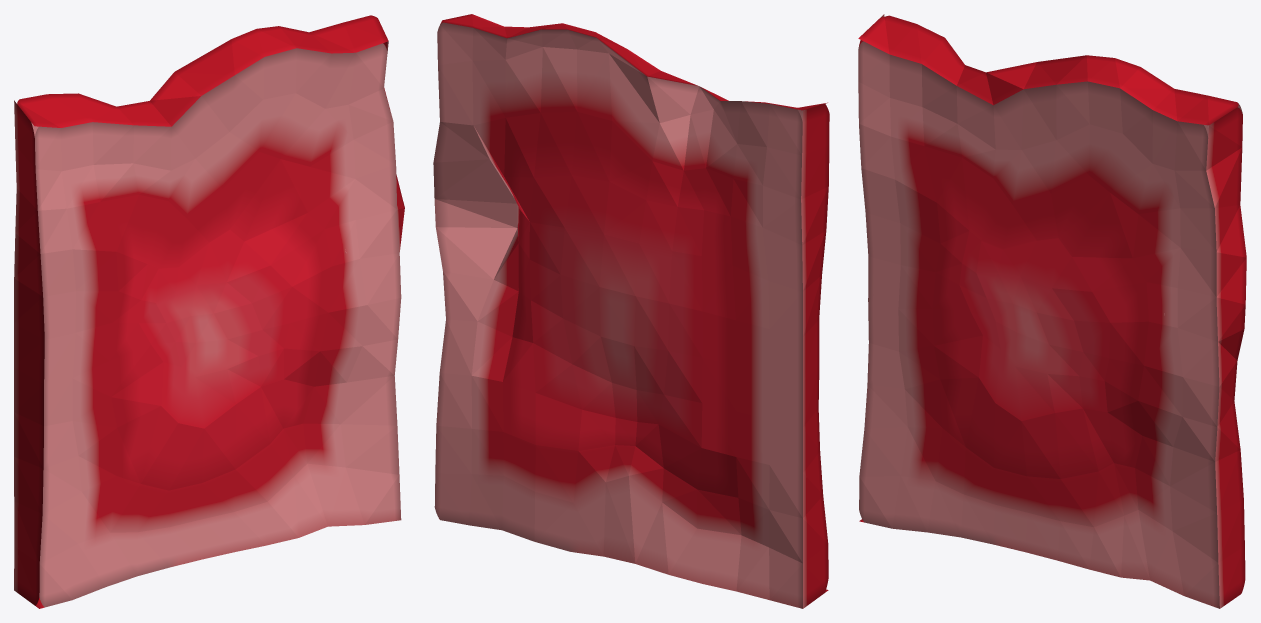
Rendered from red_moongate_0776x07.obj.
The picture shows the model from 3 angles, left to right: view 1: azimuth 30°, elevation 25°; view 2: azimuth 150°, elevation 25°; view 3: azimuth 330°, elevation 25°; orthographic projection.
Visible parts, largest first — view 1: red_moongate_0776x07; view 2: red_moongate_0776x07; view 3: red_moongate_0776x07.
Part boxes in pixels (left/top/right/bottom): red_moongate_0776x07: left=14, top=15, right=404, bottom=608; red_moongate_0776x07: left=433, top=14, right=829, bottom=608; red_moongate_0776x07: left=858, top=14, right=1246, bottom=608.
Size of the model in its own units: 4.32 by 5.53 by 0.5329.
